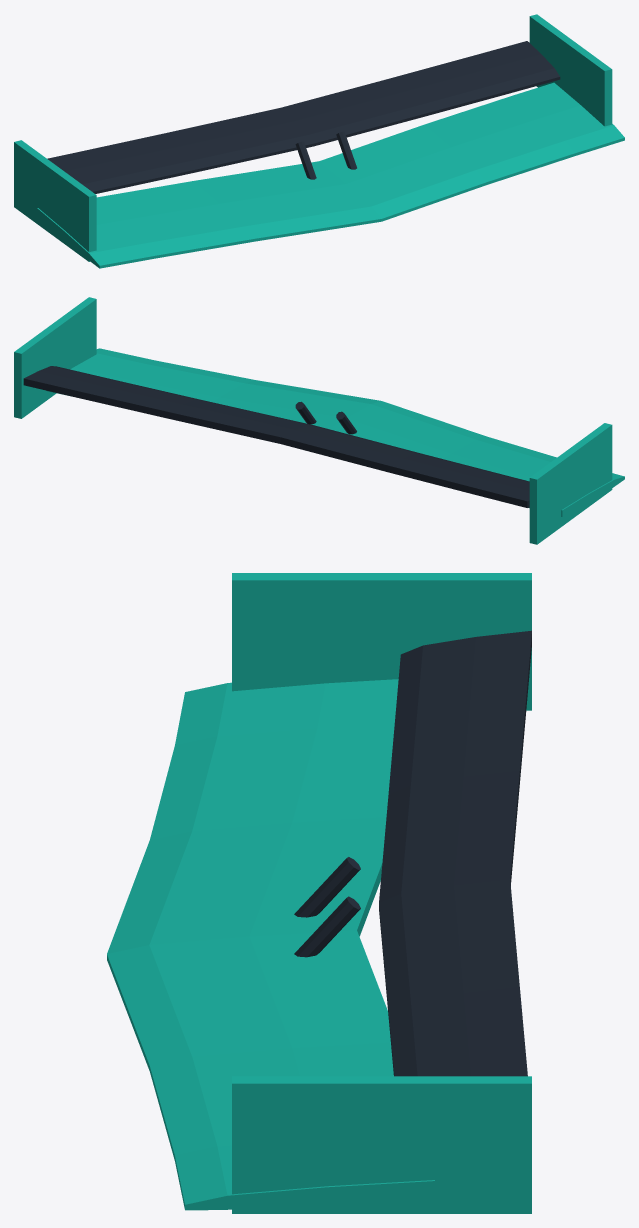
Rendered from split.glb.
The picture shows the model from 3 angles, top to bottom: view 1: azimuth 30°, elevation 25°; view 2: azimuth 150°, elevation 25°; view 3: azimuth 270°, elevation 25°; orthographic projection. The views are drawn at different scales.
Parts seen in each view (by area): view 1: FrontWing; view 2: FrontWing; view 3: FrontWing.
Boxes of the visible parts, x1,y1,x2,y2 form: FrontWing: (14, 14, 624, 268); FrontWing: (14, 297, 624, 544); FrontWing: (107, 573, 531, 1213).
Bounding box in the file's own units: 1.94 × 0.232 × 0.68.
